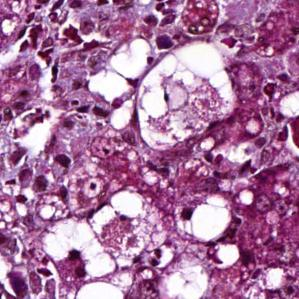ballooning: (134, 37, 239, 151), (43, 214, 119, 281)
